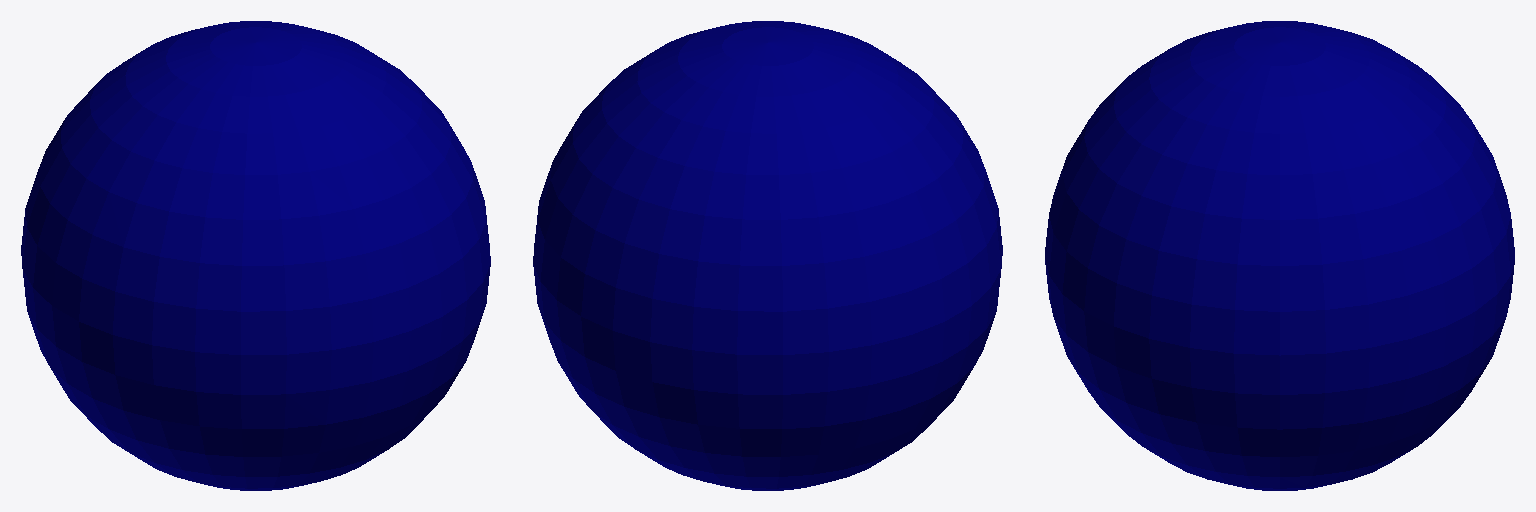
The model's file is sphereBlue.obj.
3 views of the same model, side by side, from view 1: azimuth 30°, elevation 25°; view 2: azimuth 150°, elevation 25°; view 3: azimuth 270°, elevation 25° (orthographic).
Visible parts, largest first — view 1: Sphere01; view 2: Sphere01; view 3: Sphere01.
Part boxes in pixels (left/top/right/bottom): Sphere01: left=21, top=21, right=490, bottom=490; Sphere01: left=533, top=21, right=1002, bottom=490; Sphere01: left=1045, top=21, right=1514, bottom=490.
Bounding box in the file's own units: 5.53 × 5.53 × 5.53.